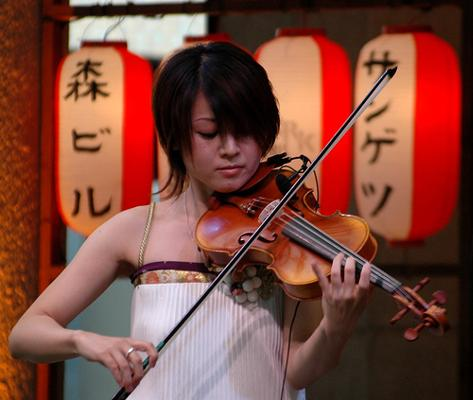person: (9, 40, 381, 400)
